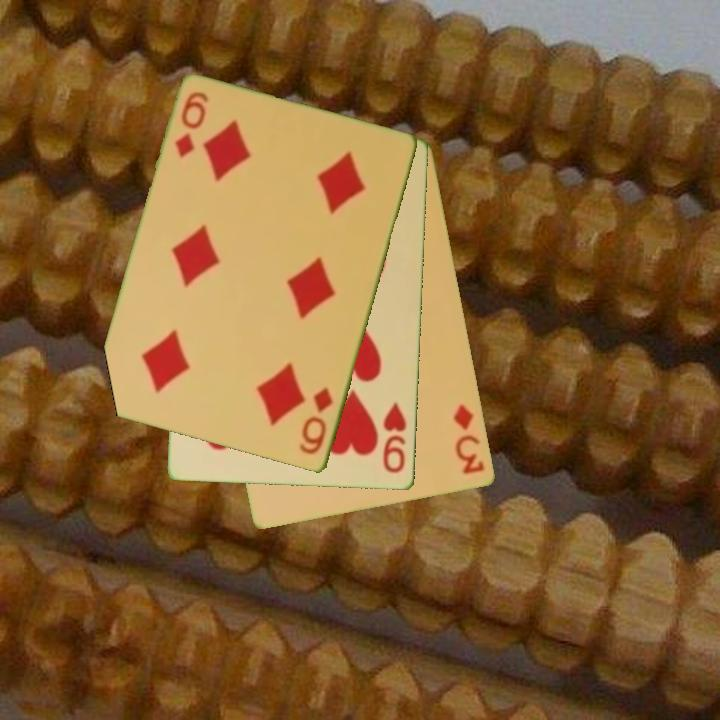3d: (450, 401, 488, 478)
6d: (171, 88, 212, 162), (296, 384, 336, 458)
9h: (380, 400, 410, 477)
